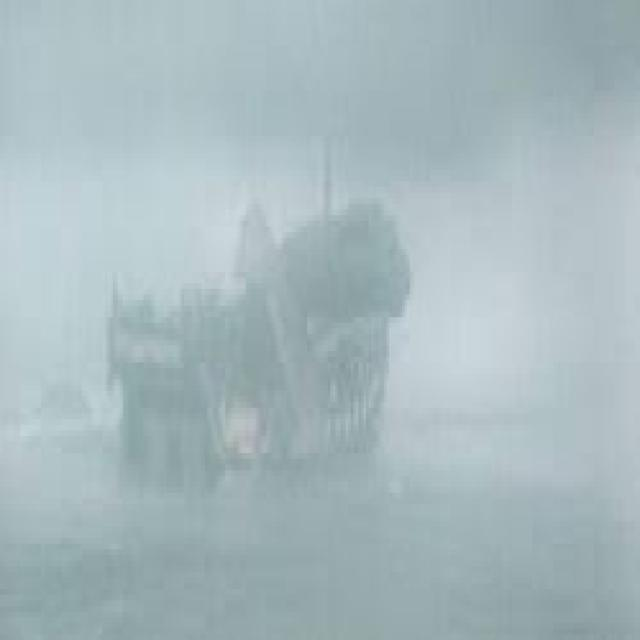navalvessels: (102, 136, 408, 489)
